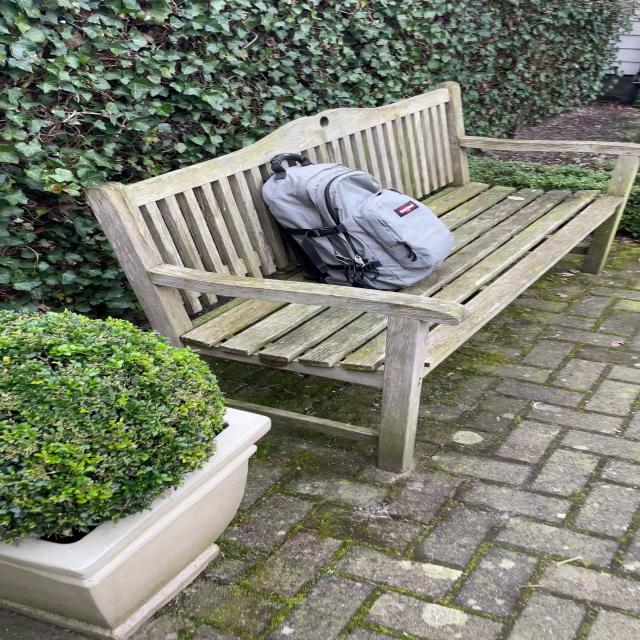backpack: (253, 150, 462, 294)
